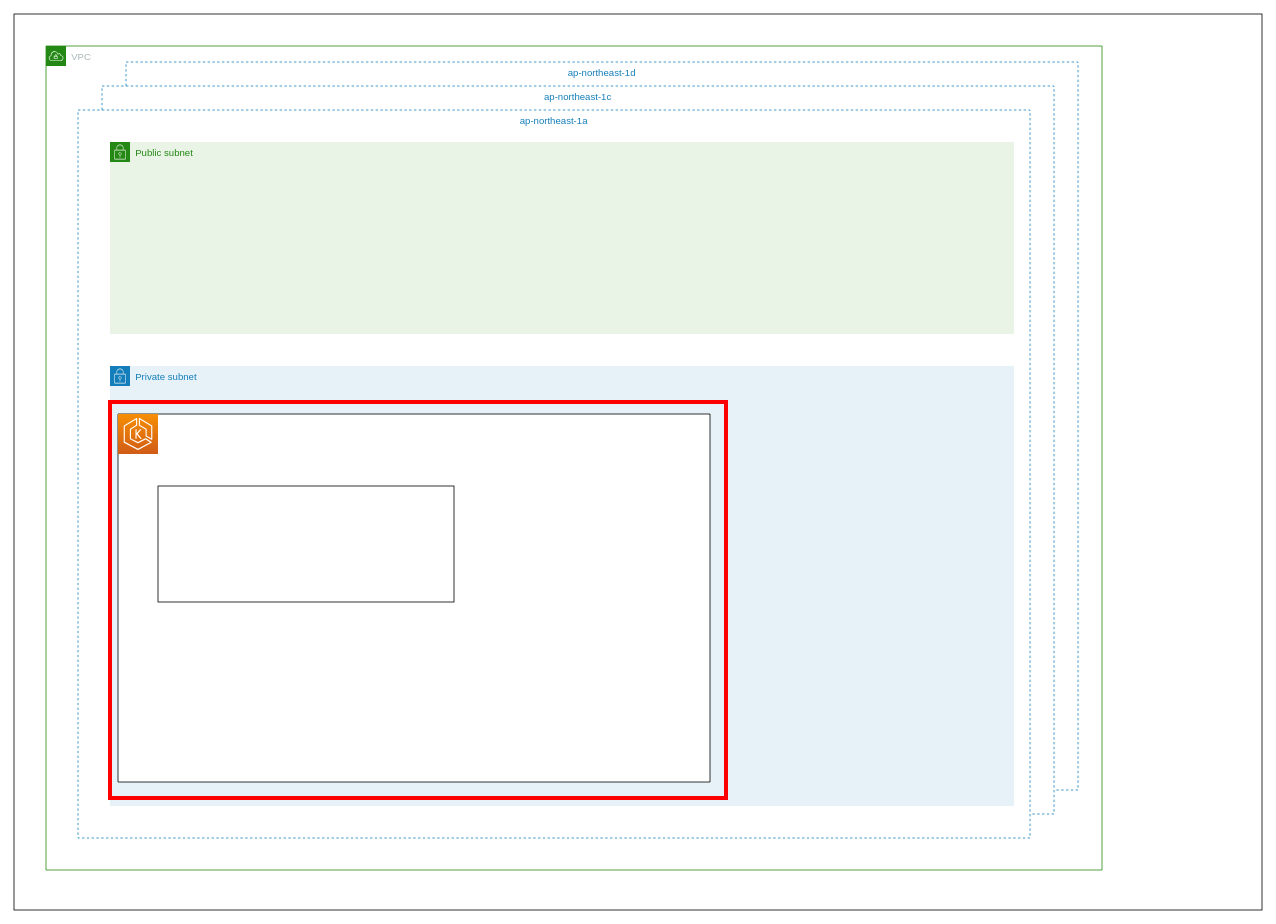
This 1276x924 diagram has some shape labels left out. Each missing label, with the centre of its shape:
"EKS" goes at (137,433).
"■ Addon - coredns - kube-proxy - vpc-cni - eks-pod-identity-agent" goes at (305,543).
